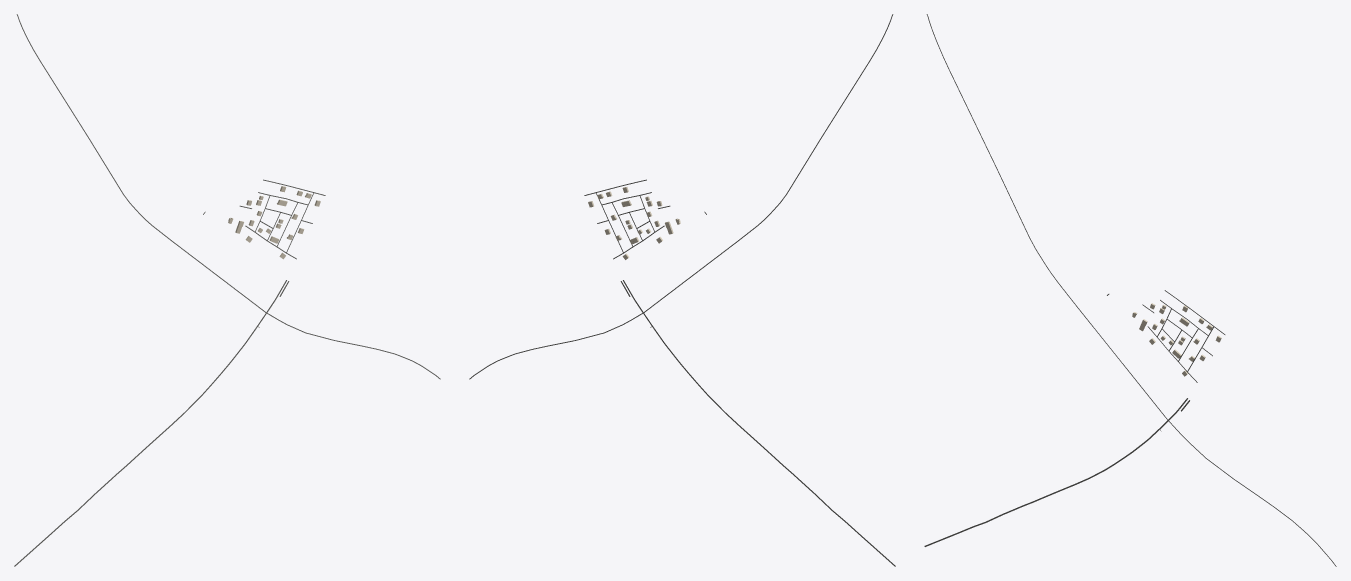
The model's file is aqaba_3505_2957.glb.
3 views of the same model, side by side, from view 1: azimuth 30°, elevation 25°; view 2: azimuth 150°, elevation 25°; view 3: azimuth 330°, elevation 25° (orthographic). The views are drawn at different scales.
Visible parts, largest first — view 1: Road, Road .011; view 2: Road, Road .011; view 3: Road, Road .011.
Boxes of the visible parts, <box> form: Road: <box>16,14,440,379</box>; Road .011: <box>14,296,277,566</box>; Road: <box>469,14,893,379</box>; Road .011: <box>632,296,895,566</box>; Road: <box>926,14,1336,566</box>; Road .011: <box>924,409,1178,546</box>.
Size of the model in its own units: 1691 by 2091 by 8.7.
